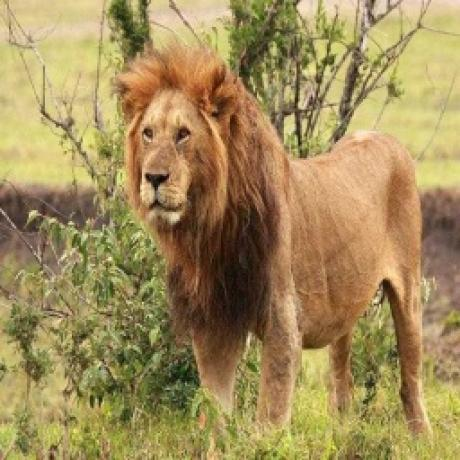Lion: (118, 42, 432, 428)
